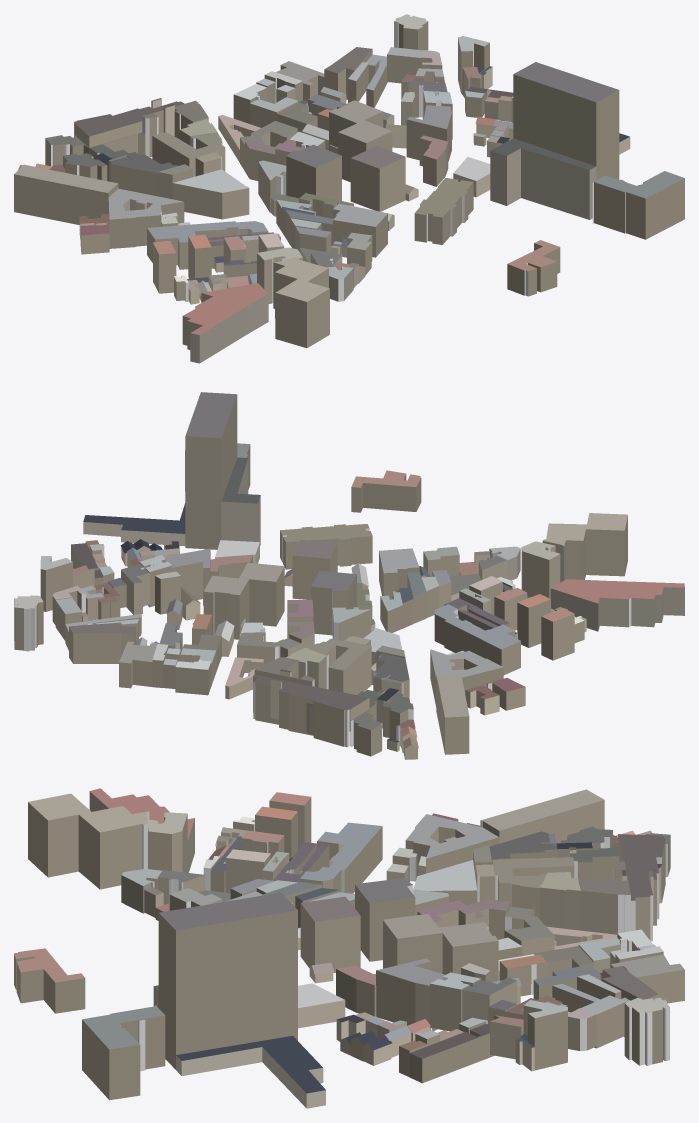
3 renders of one model, top to bottom at view 1: azimuth 30°, elevation 25°; view 2: azimuth 150°, elevation 25°; view 3: azimuth 270°, elevation 25°, orthographic. The views are drawn at different scales.
Visible parts, largest first — view 1: tuile; view 2: tuile; view 3: tuile.
Boxes of the visible parts, x1,y1,x2,y2 form: tuile: (14,14,684,363); tuile: (14,392,684,759); tuile: (14,788,684,1108).
Size of the model in its own units: 301 by 75.39 by 272.
